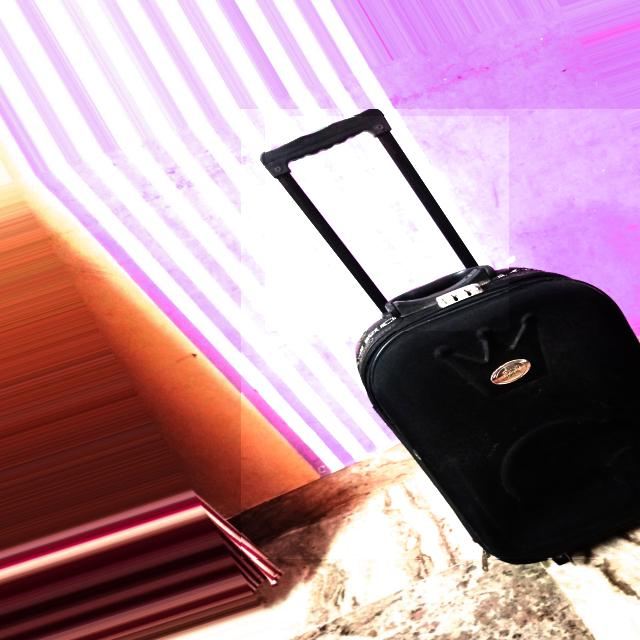Bag: (240, 104, 640, 618)
Handle: (259, 107, 500, 309)
